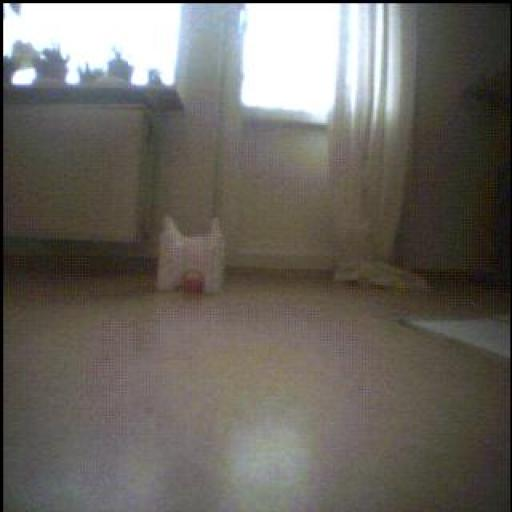Basket: (182, 271, 206, 294)
